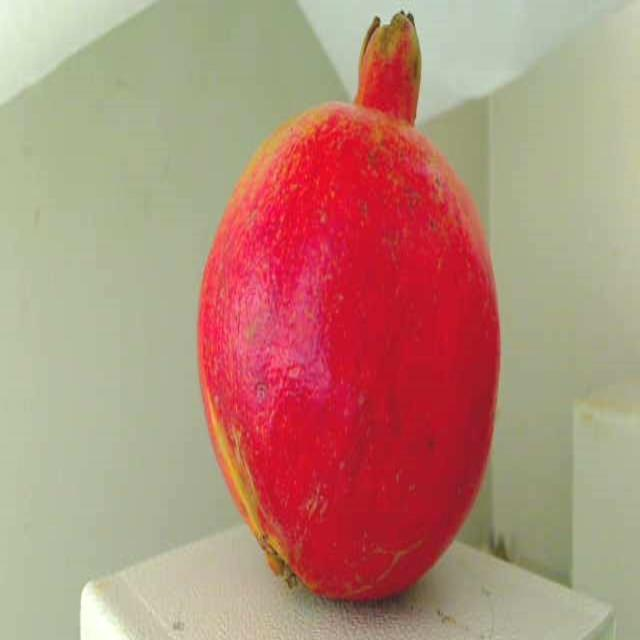pomegranate: (186, 0, 513, 640)
